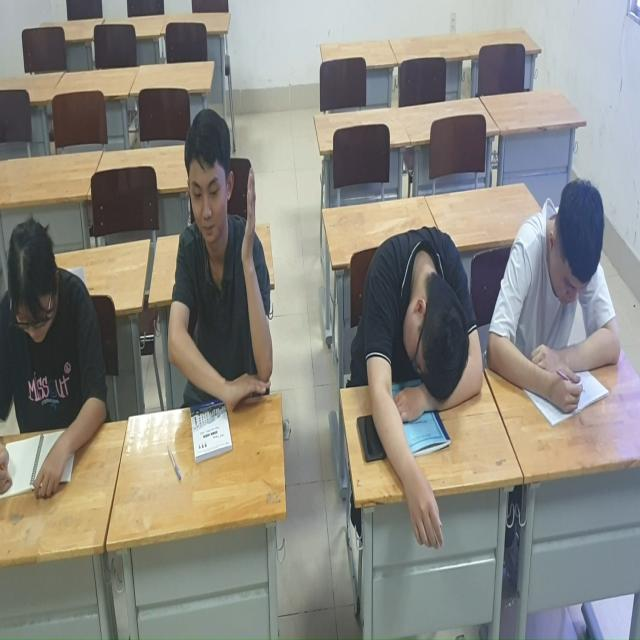raise_hand: (178, 84, 278, 449)
read: (1, 187, 128, 485), (484, 165, 623, 429)
sleep: (360, 211, 487, 577)
